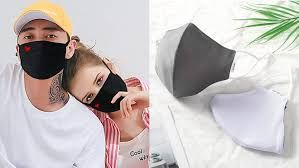with-mask: (13, 18, 78, 82), (73, 61, 130, 118)
